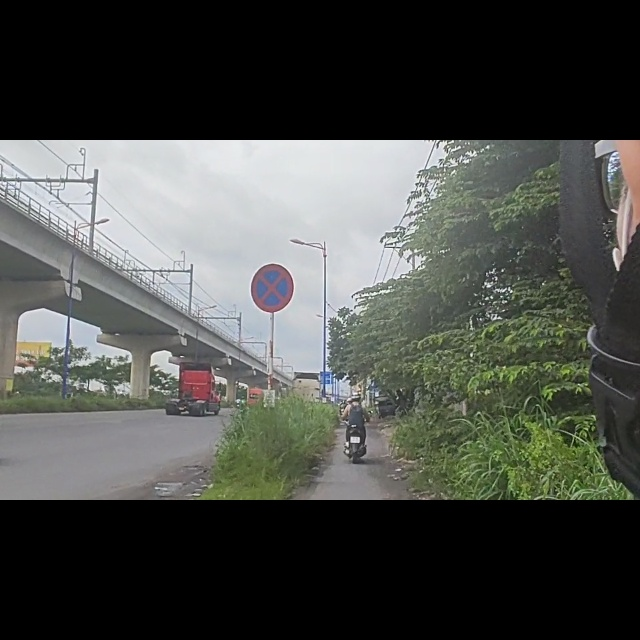bien_cam: (247, 212, 300, 312)
